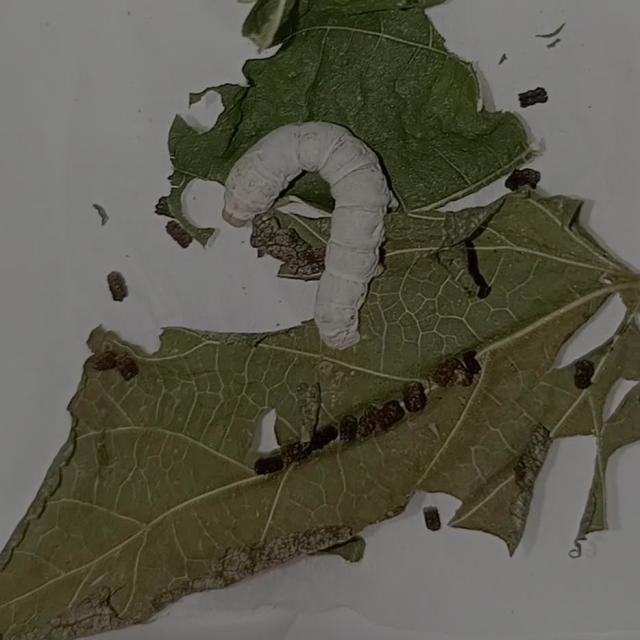Healthy: (198, 98, 436, 362)
